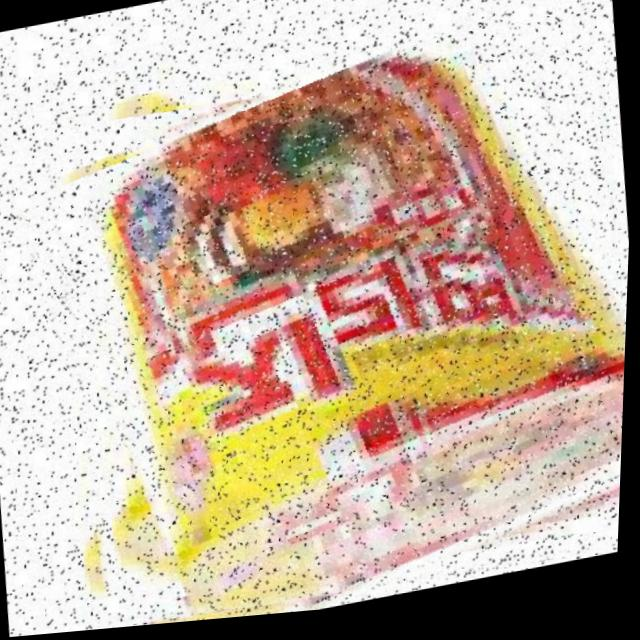Miscellaneous: (21, 14, 638, 637)
